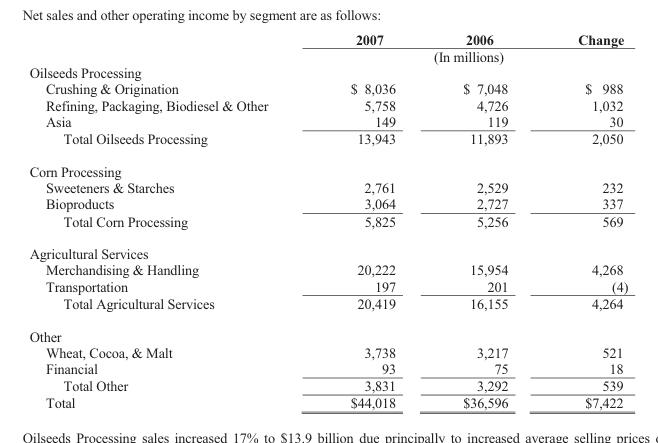table: (28, 29, 627, 411)
table column: (28, 29, 308, 411), (308, 29, 428, 411), (428, 29, 542, 411), (542, 29, 627, 411)
table column header: (28, 29, 627, 63)
table projected row header: (28, 236, 627, 261), (28, 154, 627, 178), (28, 319, 627, 343), (28, 63, 627, 80)
table row: (28, 129, 627, 154), (28, 211, 627, 236), (28, 236, 627, 261), (28, 294, 627, 319), (28, 154, 627, 178), (28, 319, 627, 343), (28, 29, 627, 47), (28, 393, 627, 411), (28, 63, 627, 80), (28, 112, 627, 129), (28, 178, 627, 195), (28, 277, 627, 294), (28, 343, 627, 360), (28, 376, 627, 393), (28, 47, 627, 63), (28, 80, 627, 96), (28, 96, 627, 112), (28, 195, 627, 211), (28, 261, 627, 277), (28, 360, 627, 376)
table spanning cell: (308, 47, 627, 63)
